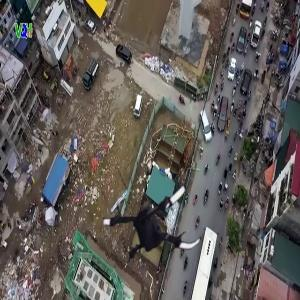drone: (94, 171, 206, 283)
